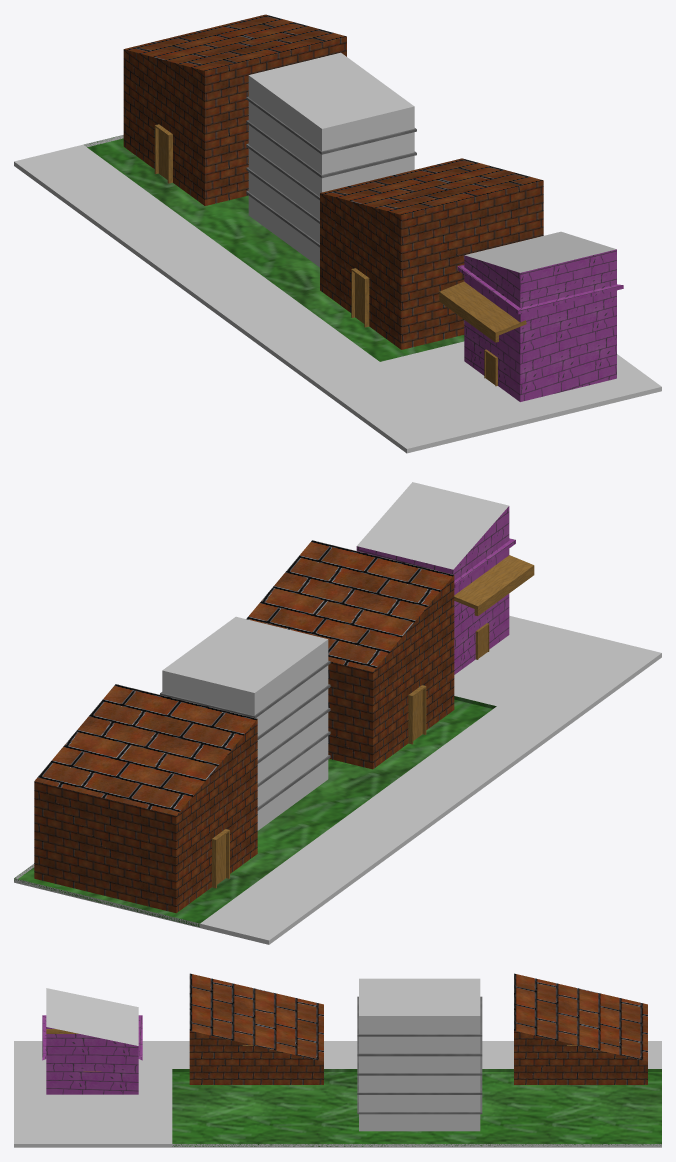
The model's file is Bloco 6.fbx.
3 views of the same model, one above another, from view 1: azimuth 30°, elevation 25°; view 2: azimuth 150°, elevation 25°; view 3: azimuth 270°, elevation 25° (orthographic). The views are drawn at different scales.
Parts seen in each view (by area): view 1: Bloco 6; view 2: Bloco 6; view 3: Bloco 6.
Part boxes in pixels (<box>): Bloco 6: <box>14,14,661,453</box>; Bloco 6: <box>14,482,661,944</box>; Bloco 6: <box>14,973,661,1147</box>.
Bounding box in the file's own units: 3000 × 1588 × 8000.
